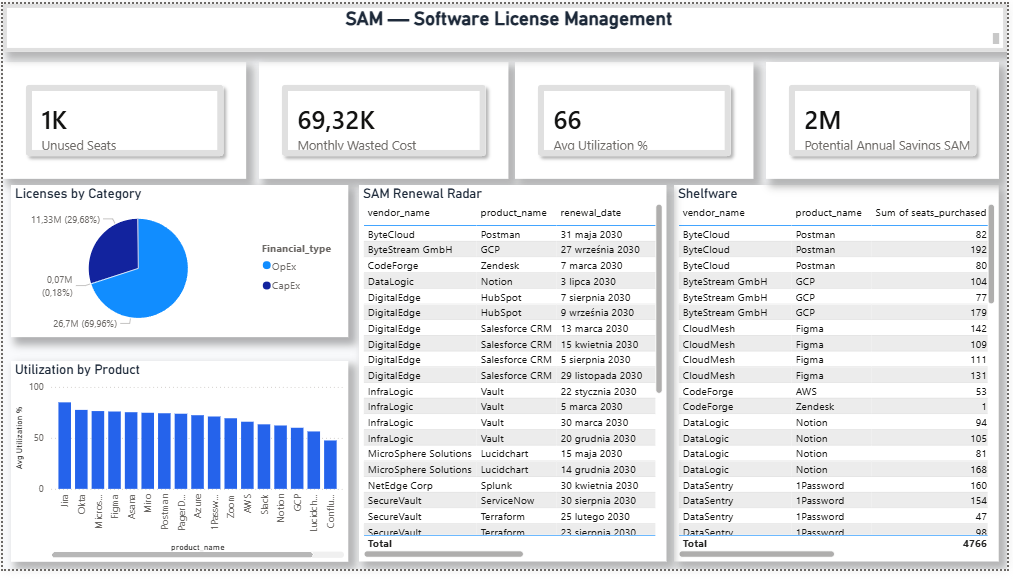

Layout of this report page (visuals, bound fields, positions):
{"tool":"powerbi","page":{"name":"SAM - Software Licenses","canvas":[1280,720],"ordinal":2},"visuals":[{"type":"cardVisual","fields":{"Data":["_Measures.Unused Seats"]},"box":[0,74,310,149.1],"z":0},{"type":"cardVisual","fields":{"Data":["_Measures.Monthly Wasted Cost"]},"box":[326.5,74,318.2,149.1],"z":1000},{"type":"cardVisual","fields":{"Data":["_Measures.Avg Utilization %"]},"box":[652.9,74,304.1,149.1],"z":2000},{"type":"clusteredColumnChart","title":"Utilization by Product","fields":{"Category":["software_licenses.product_name"],"Y":["_Measures.Avg Utilization %"]},"box":[10,454.6,429.6,256],"z":3000},{"type":"pieChart","title":"Licenses by Category","fields":{"Category":["invoices_main.Financial_type","software_licenses.category"],"Y":["_Measures.Total Spend","_Measures.Monthly Wasted Cost"]},"box":[10,231,429.6,193.6],"z":4000},{"type":"tableEx","title":"Shelfware","fields":{"Values":["vendors.vendor_name","software_licenses.product_name","Sum(software_licenses.seats_purchased)","Sum(software_licenses.seats_used)","Sum(software_licenses.annual_cost)","software_licenses.renewal_date"]},"box":[855.3,230.5,414.2,479.7],"z":5000},{"type":"textbox","title":"SAM — Software License Management","box":[0,0,1280,60.8],"z":6000},{"type":"cardVisual","fields":{"Data":["_Measures.Potential Annual Savings SAM"]},"box":[972.3,74,297.1,149.1],"z":7000},{"type":"tableEx","title":"SAM Renewal Radar","fields":{"Values":["vendors.vendor_name","software_licenses.product_name","software_licenses.renewal_date","_Measures.Avg Utilization %","_Measures.Potential Annual Savings SAM"]},"box":[453.3,231,392.1,479.5],"z":8000}]}

Visuals, with their boxes in screenshot pixels (x1, y1, x2, y2), scaled from the page's 1280x720 canvas onto the 1013x580 screenshot:
cardVisual - _Measures.Unused Seats: [0, 60, 245, 180]
cardVisual - _Measures.Monthly Wasted Cost: [258, 60, 510, 180]
cardVisual - _Measures.Avg Utilization %: [517, 60, 757, 180]
"Utilization by Product" clusteredColumnChart: [8, 366, 348, 572]
"Licenses by Category" pieChart: [8, 186, 348, 342]
"Shelfware" tableEx: [677, 186, 1005, 572]
"SAM — Software License Management" textbox: [0, 0, 1012, 49]
cardVisual - _Measures.Potential Annual Savings SAM: [769, 60, 1005, 180]
"SAM Renewal Radar" tableEx: [359, 186, 669, 572]
